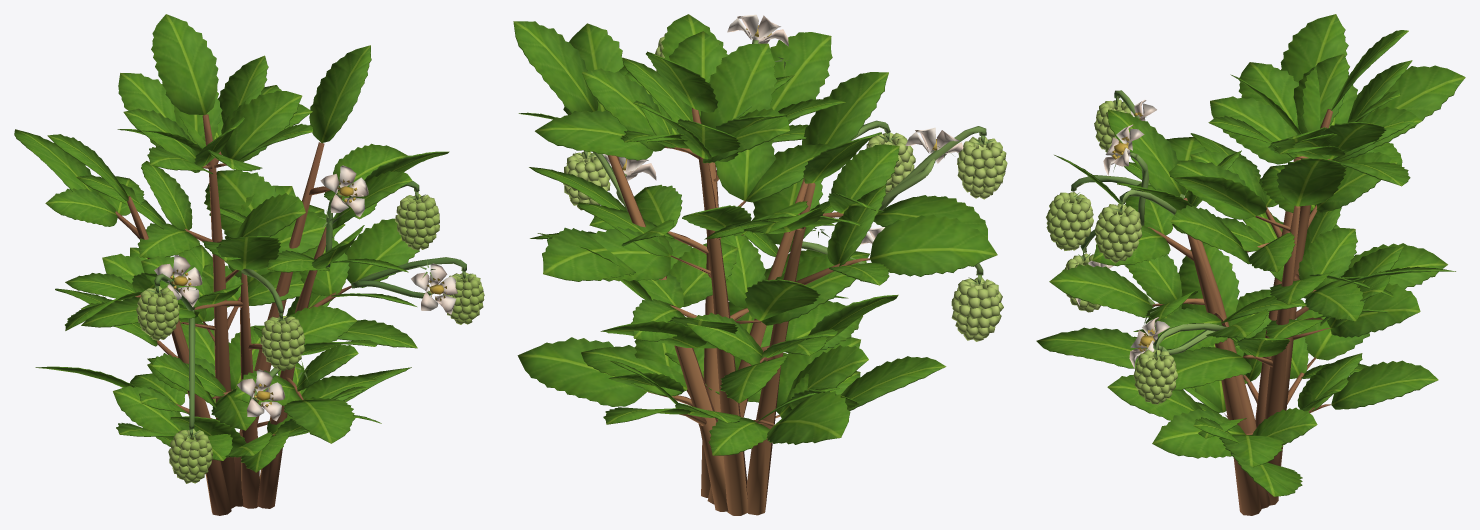
The model's file is NP_Raspberry_Flowering.fbx.
The picture shows the model from 3 angles, left to right: view 1: azimuth 30°, elevation 25°; view 2: azimuth 150°, elevation 25°; view 3: azimuth 270°, elevation 25°; orthographic projection. The views are drawn at different scales.
Visible parts, largest first — view 1: NP_Raspberry_Flowering; view 2: NP_Raspberry_Flowering; view 3: NP_Raspberry_Flowering.
Part boxes in pixels (x1,y1,x2,y2): NP_Raspberry_Flowering: (14,14,484,515); NP_Raspberry_Flowering: (513,14,1007,515); NP_Raspberry_Flowering: (1036,14,1465,515).
Bounding box in the file's own units: 75.15 × 80.54 × 66.89.
Materials: 1 (1 with a texture image).
